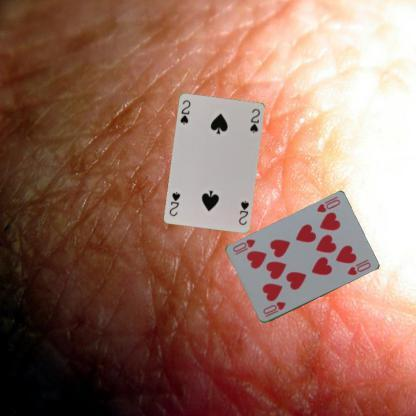10h: (260, 300, 287, 318), (314, 197, 342, 214)
2s: (178, 96, 192, 126), (236, 198, 250, 226)
